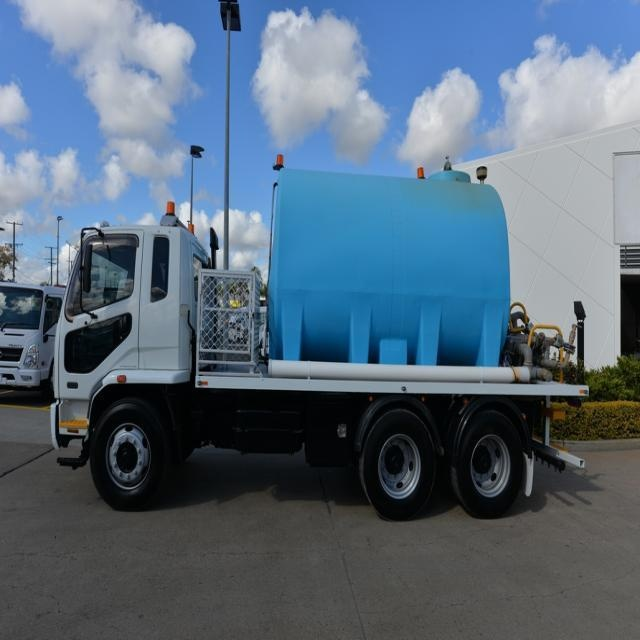Truck: (48, 169, 590, 519)
